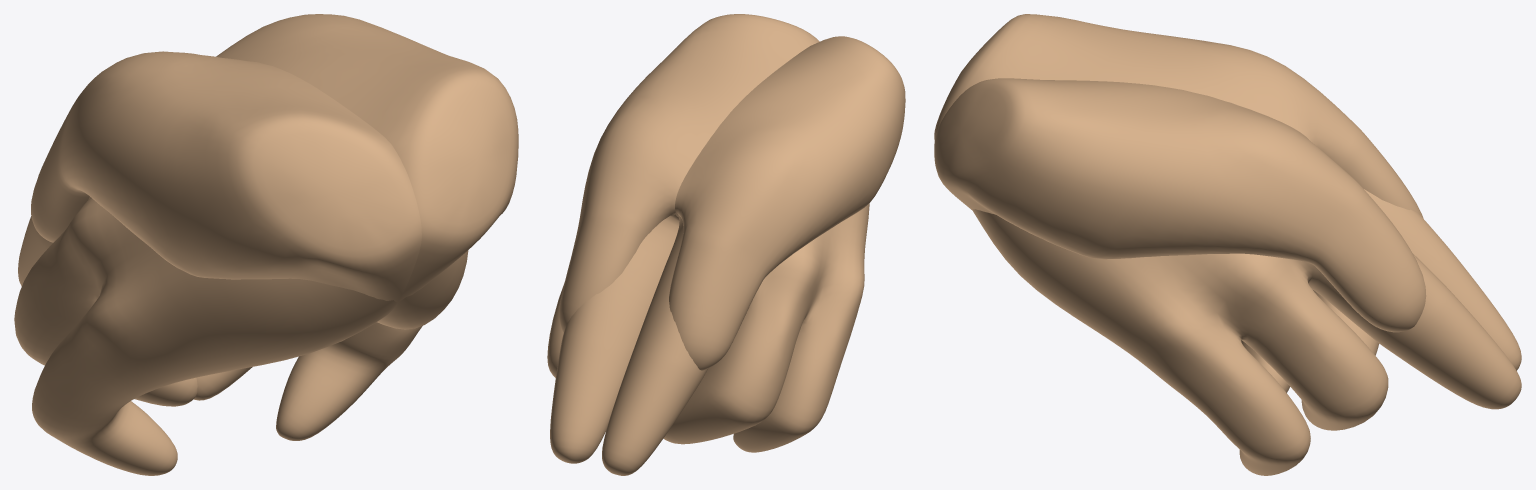
The model's file is hands.glb.
3 renders of one model, left to right at view 1: azimuth 30°, elevation 25°; view 2: azimuth 150°, elevation 25°; view 3: azimuth 270°, elevation 25°, orthographic. The views are drawn at different scales.
Parts seen in each view (by area): view 1: left_hand, right_hand; view 2: left_hand, right_hand; view 3: right_hand, left_hand.
Boxes of the visible parts, bbox=[...] form: left_hand: bbox=[14, 14, 518, 475]; right_hand: bbox=[31, 51, 468, 440]; left_hand: bbox=[559, 14, 869, 475]; right_hand: bbox=[547, 36, 905, 463]; right_hand: bbox=[934, 14, 1521, 475]; left_hand: bbox=[934, 78, 1521, 392].
Bounding box in the file's own units: 0.0946 × 0.1167 × 0.1603.
